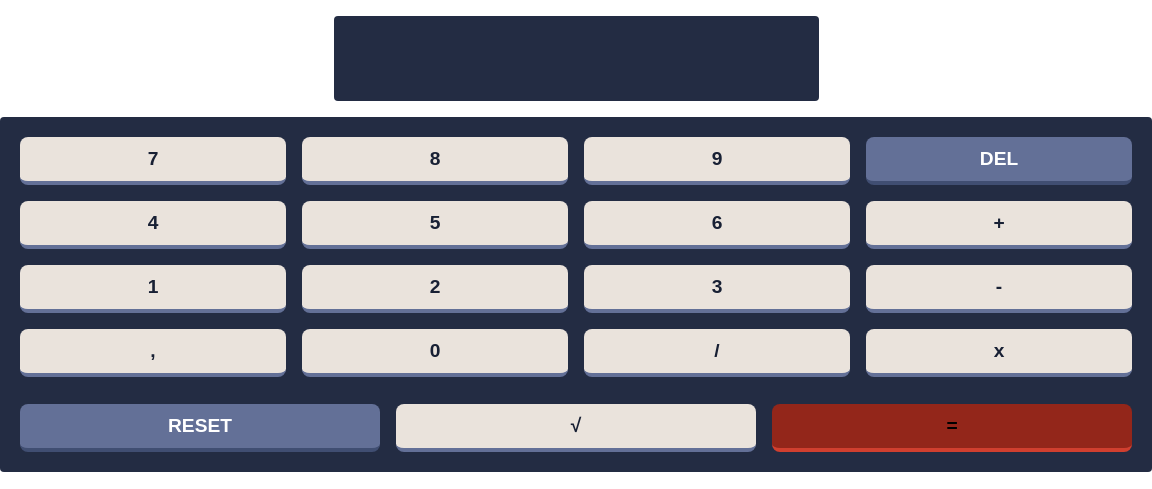
Test case: <Calculator/> › should be able to sum two integer numbers
Click the button with test id "2" at (435, 289), box [302,265,568,313]
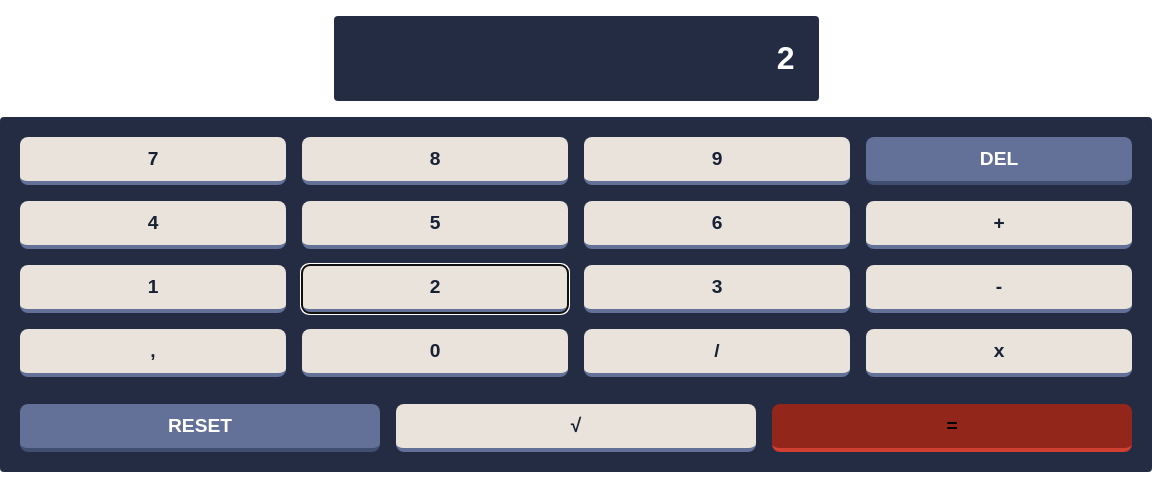
Click the button with test id "add-button" at (999, 225), box [866,201,1132,249]
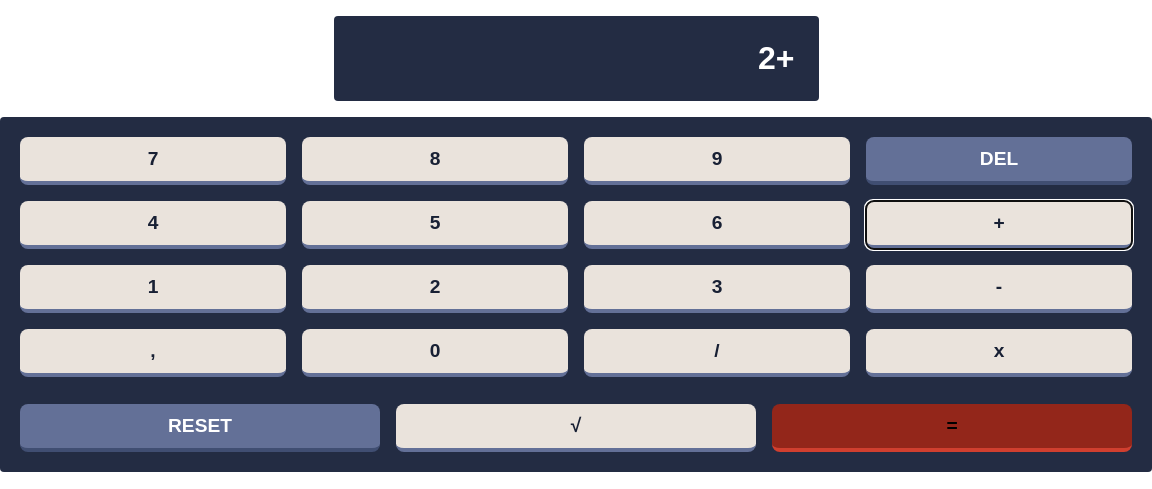
Click the button with test id "3" at (717, 289), box [584,265,850,313]
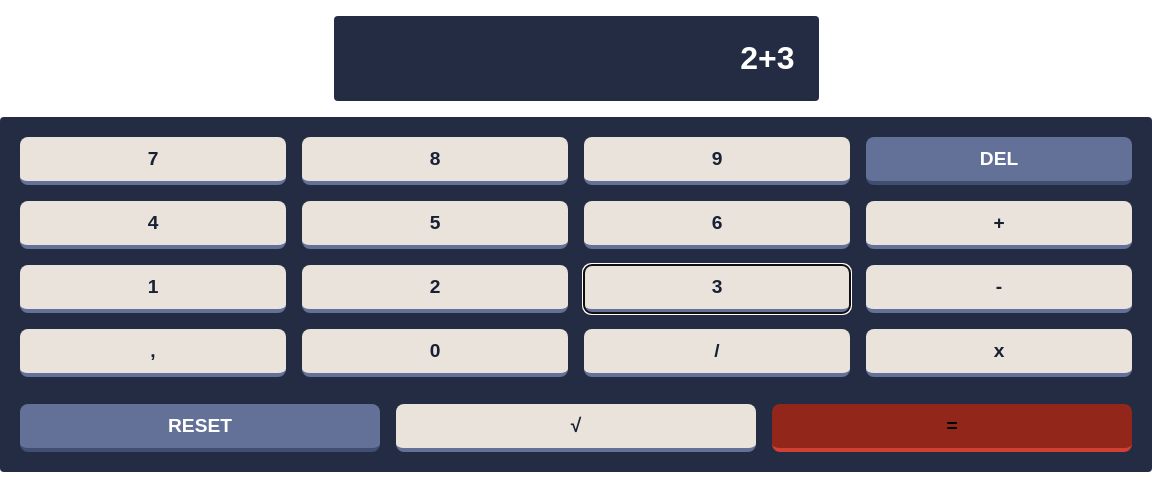
Click the button with test id "result-button" at (952, 428), box [772,404,1132,452]
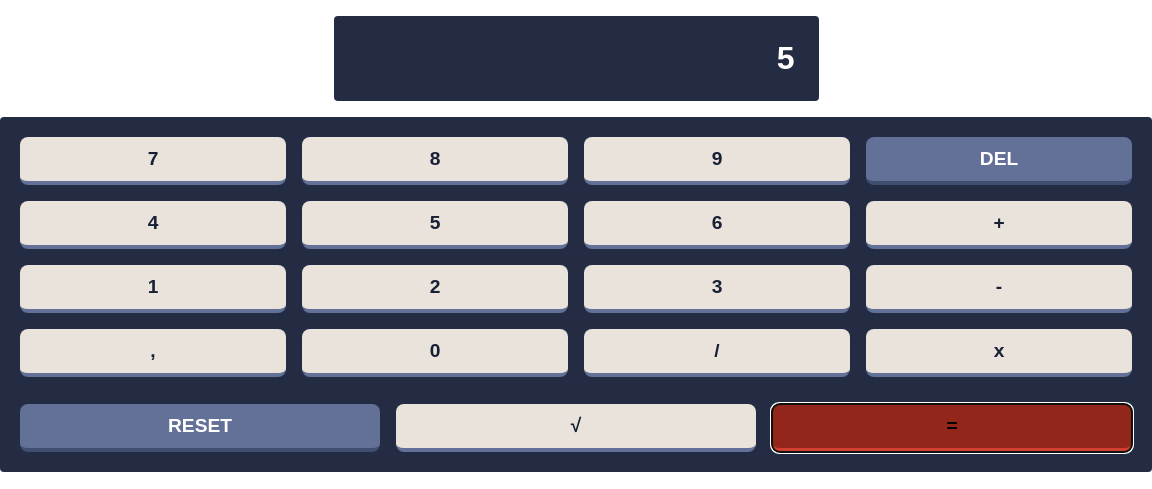
Result: the field with test id "input" holds "5" at [334,16,818,101]
